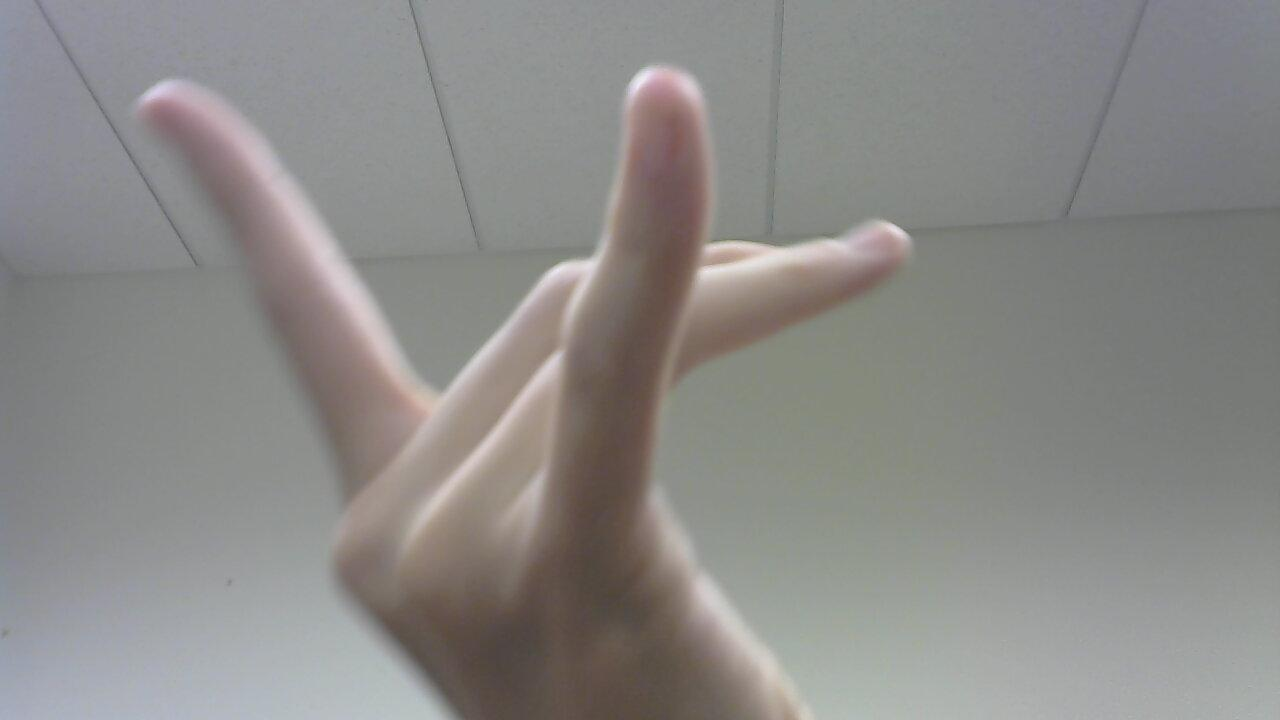hands: (121, 57, 945, 720)
